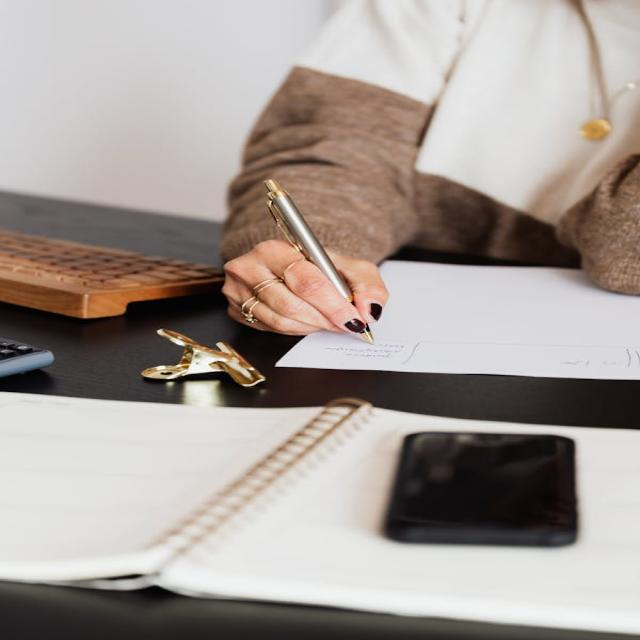pen: (240, 159, 405, 355)
